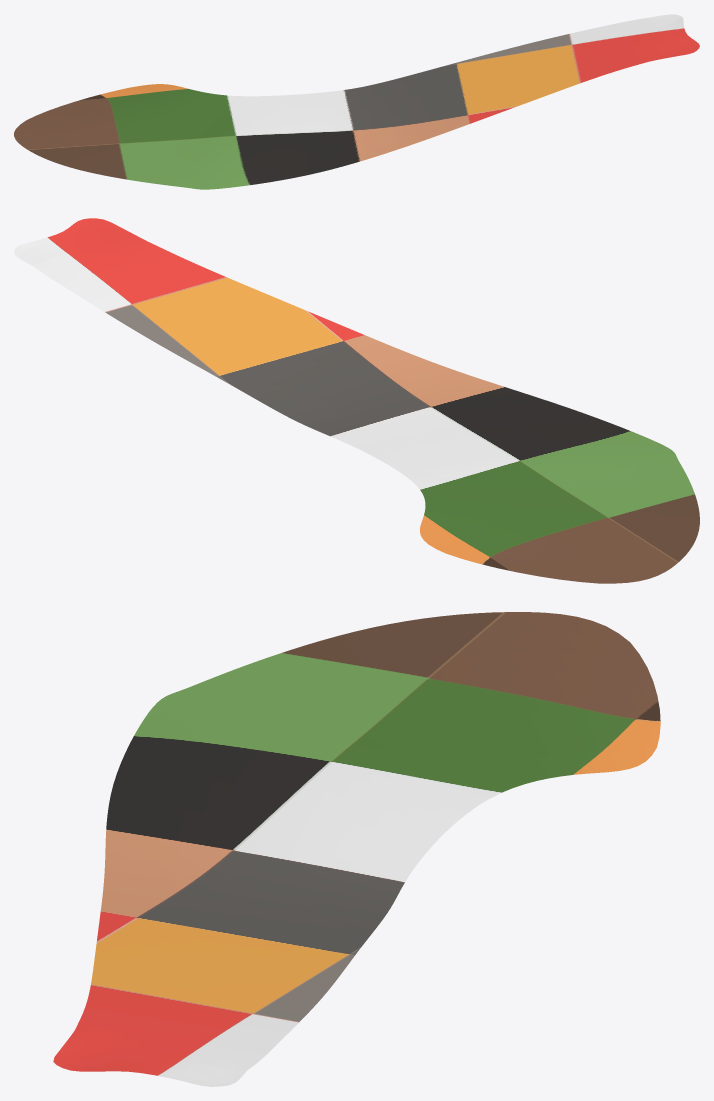
File: lvl2grasstocaves.fbx
3 renders of one model, top to bottom at view 1: azimuth 30°, elevation 25°; view 2: azimuth 150°, elevation 25°; view 3: azimuth 270°, elevation 25°, orthographic. The views are drawn at different scales.
Parts seen in each view (by area): view 1: tocavesgrass; view 2: tocavesgrass; view 3: tocavesgrass.
Part boxes in pixels (box(x1,y1,x2,y2)): tocavesgrass: box(14, 14, 699, 189); tocavesgrass: box(14, 218, 699, 583); tocavesgrass: box(53, 612, 660, 1086).
Bounding box in the file's own units: 41.68 × 3.2 × 18.88.
